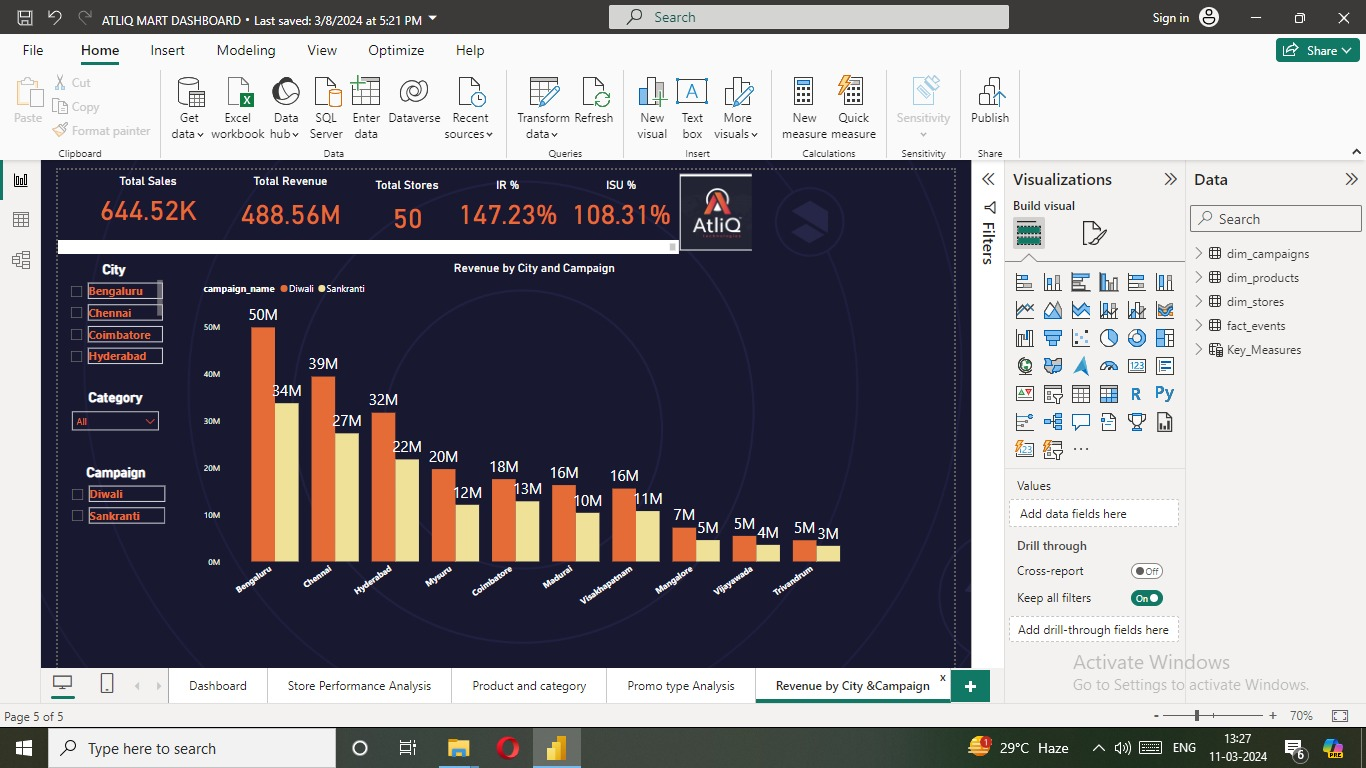

This screenshot's page, from the dashboard's own definition file:
{"tool":"powerbi","page":{"name":"Revenue by City &Campaign","canvas":[1280,720],"ordinal":4},"visuals":[{"type":"image","box":[867.1,0,144.3,120],"z":0},{"type":"card","title":"Total Sales","fields":{"Values":["Key_Measures.Total_Sales"]},"box":[52.9,5.7,151.4,77.1],"z":1000},{"type":"card","title":"Total Revenue","fields":{"Values":["Key_Measures.Total_Revenue_Overall"]},"box":[254.3,5.7,155.7,88.6],"z":2000},{"type":"card","title":"Total Stores","fields":{"Values":["Key_Measures.Total_Stores"]},"box":[444.3,11.4,108.6,88.6],"z":3000},{"type":"card","title":"IR %","fields":{"Values":["Key_Measures.IR %"]},"box":[562.9,11.4,158.6,77.1],"z":4000},{"type":"card","title":"ISU %","fields":{"Values":["Key_Measures.ISU %"]},"box":[721.4,11.4,165.7,77.1],"z":5000},{"type":"textbox","box":[0,100,887.1,20],"z":6000},{"type":"slicer","title":"City","fields":{"Values":["dim_stores.city"]},"box":[5.7,130,148.6,158.6],"z":7000},{"type":"slicer","title":"Category","fields":{"Values":["dim_products.category"]},"box":[10,312.9,144.3,165.7],"z":8000},{"type":"slicer","title":"Campaign","fields":{"Values":["dim_campaigns.campaign_name"]},"box":[7.1,420,151.4,115.7],"z":9000},{"type":"clusteredColumnChart","title":"Revenue by City and Campaign","fields":{"Category":["dim_stores.city"],"Series":["dim_campaigns.campaign_name"],"Y":["Key_Measures.Total_revenue_after_promo"]},"box":[202.9,130.4,955.1,511.6],"z":12001}]}

Visuals, with their boxes on the page's 1280x720 design canvas (x1, y1, x2, y2). These are canvas units, not pixel positions in the 1366x768 screenshot, which may show the page scaled, cropped or inside an application window:
image: <box>867,0,1011,120</box>
"Total Sales" card: <box>53,6,204,83</box>
"Total Revenue" card: <box>254,6,410,94</box>
"Total Stores" card: <box>444,11,553,100</box>
"IR %" card: <box>563,11,722,88</box>
"ISU %" card: <box>721,11,887,88</box>
textbox: <box>0,100,887,120</box>
"City" slicer: <box>6,130,154,289</box>
"Category" slicer: <box>10,313,154,479</box>
"Campaign" slicer: <box>7,420,158,536</box>
"Revenue by City and Campaign" clusteredColumnChart: <box>203,130,1158,642</box>
